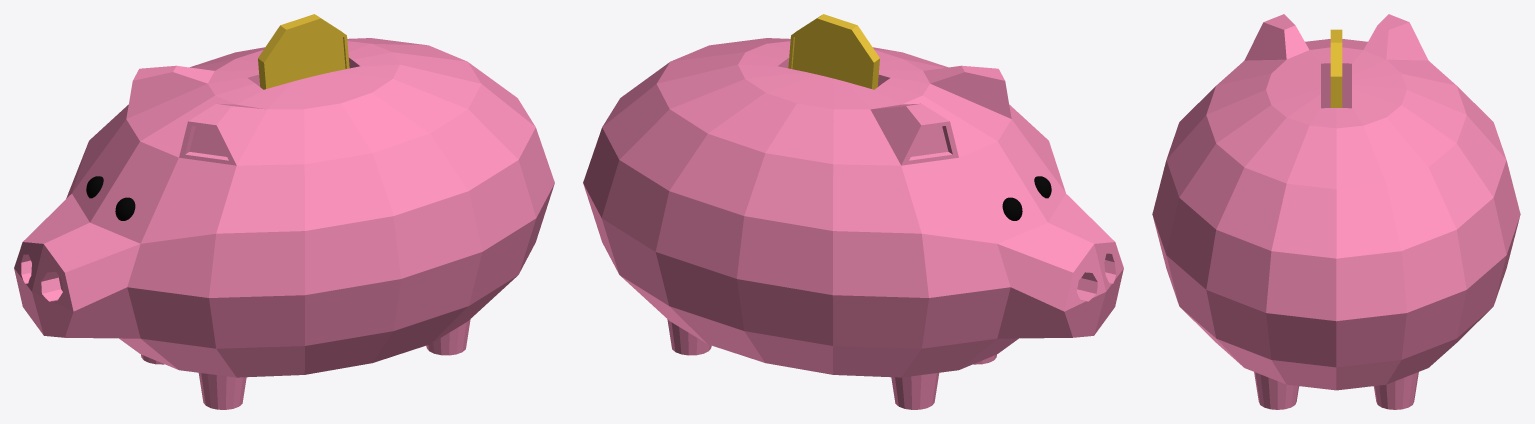
The picture shows the model from 3 angles, left to right: view 1: azimuth 30°, elevation 25°; view 2: azimuth 150°, elevation 25°; view 3: azimuth 270°, elevation 25°; orthographic projection. The views are drawn at different scales.
Visible parts, largest first — view 1: Pig; view 2: Pig; view 3: Pig.
Part boxes in pixels (bbox=[...]): Pig: bbox=[14, 14, 554, 409]; Pig: bbox=[583, 14, 1123, 409]; Pig: bbox=[1152, 14, 1520, 409].
Size of the model in its own units: 0.3132 by 0.1973 by 0.2096.
